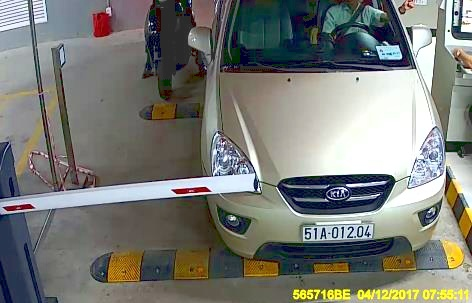plate: (300, 220, 373, 244)
